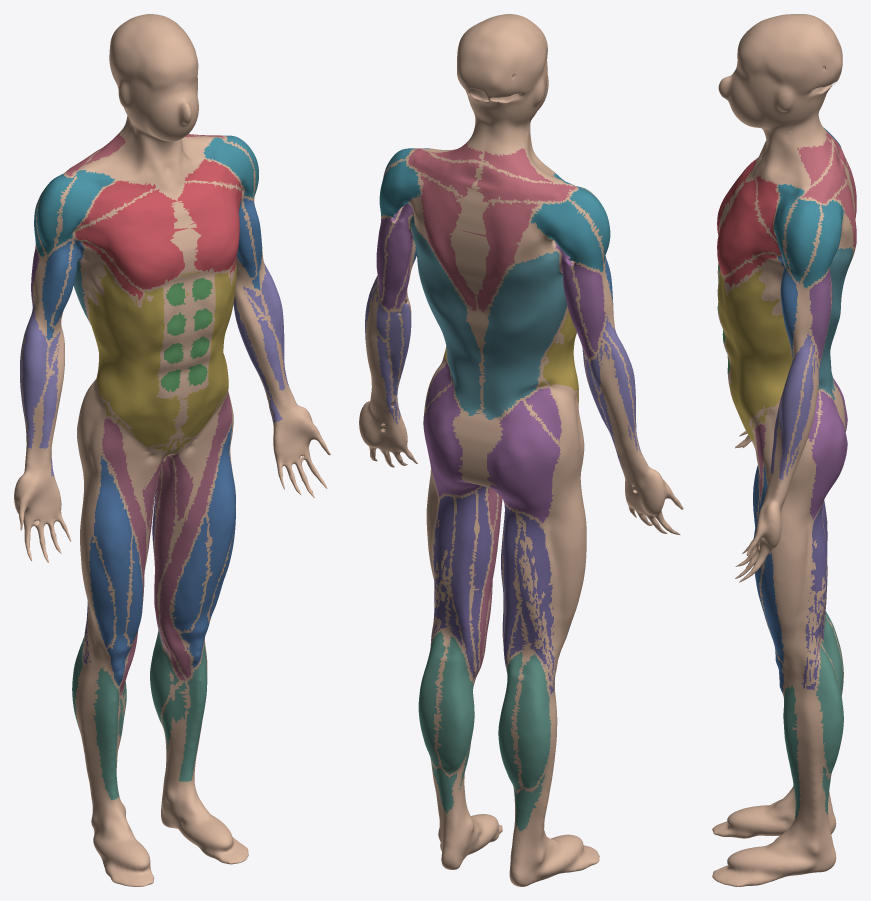
The model's file is MuscleAtlas_Surface.glb.
3 views of the same model, side by side, from view 1: azimuth 30°, elevation 25°; view 2: azimuth 150°, elevation 25°; view 3: azimuth 270°, elevation 25° (orthographic). The views are drawn at different scales.
Visible parts, largest first — view 1: Surface_Skin, Surface_External abdominal oblique muscle.r, Surface_Sternocostal head of pectoralis major muscle.r, Surface_Rectus femoris muscle.r, Surface_Sternocostal head of pectoralis major muscle.l, Surface_Sartorius muscle.l, Surface_Rectus femoris muscle.l, Surface_External abdominal oblique muscle.l, Surface_Tibialis anterior muscle.r, Surface_Sartorius muscle.r, Surface_Vastus medialis muscle.l, Surface_Brachioradialis muscle.r (+22 smaller); view 2: Surface_Skin, Surface_Latissimus dorsi muscle.r, Surface_Gluteus maximus muscle.r, Surface_Latissimus dorsi muscle.l, Surface_Medial head of gastrocnemius.l, Surface_Lateral head of gastrocnemius.r, Surface_Gluteus maximus muscle.l, Surface_Descending part of trapezius muscle.r, Surface_Descending part of trapezius muscle.l, Surface_Semitendinosus muscle.l, Surface_Scapular spinal part of deltoid muscle.r, Surface_Transverse part of trapezius muscle.r (+22 smaller); view 3: Surface_Skin, Surface_External abdominal oblique muscle.l, Surface_Sternocostal head of pectoralis major muscle.l, Surface_Gluteus maximus muscle.l, Surface_Lateral head of gastrocnemius.l, Surface_Acromial part of deltoid muscle.l, Surface_Brachioradialis muscle.l, Surface_Latissimus dorsi muscle.l, Surface_Scapular spinal part of deltoid muscle.l, Surface_Long head of biceps femoris.l.001, Surface_Lateral head of triceps brachii.l, Surface_Tibialis anterior muscle.l (+14 smaller).
Part boxes in pixels (<box>): Surface_Skin: <box>14,14,330,886</box>; Surface_External abdominal oblique muscle.r: <box>86,265,195,446</box>; Surface_Sternocostal head of pectoralis major muscle.r: <box>75,189,188,289</box>; Surface_Rectus femoris muscle.r: <box>94,455,131,685</box>; Surface_Sternocostal head of pectoralis major muscle.l: <box>177,182,241,272</box>; Surface_Sartorius muscle.l: <box>159,392,232,678</box>; Surface_Rectus femoris muscle.l: <box>180,425,235,667</box>; Surface_External abdominal oblique muscle.l: <box>180,262,236,440</box>; Surface_Tibialis anterior muscle.r: <box>92,667,119,799</box>; Surface_Sartorius muscle.r: <box>101,418,146,693</box>; Surface_Vastus medialis muscle.l: <box>171,517,208,649</box>; Surface_Brachioradialis muscle.r: <box>21,297,47,448</box>; Surface_Skin: <box>359,14,683,886</box>; Surface_Latissimus dorsi muscle.r: <box>482,251,567,419</box>; Surface_Gluteus maximus muscle.r: <box>487,401,560,522</box>; Surface_Latissimus dorsi muscle.l: <box>410,216,482,415</box>; Surface_Medial head of gastrocnemius.l: <box>437,636,474,774</box>; Surface_Lateral head of gastrocnemius.r: <box>514,654,551,788</box>; Surface_Gluteus maximus muscle.l: <box>423,382,481,497</box>; Surface_Descending part of trapezius muscle.r: <box>458,201,539,312</box>; Surface_Descending part of trapezius muscle.l: <box>420,174,477,311</box>; Surface_Semitendinosus muscle.l: <box>450,492,476,679</box>; Surface_Scapular spinal part of deltoid muscle.r: <box>530,199,603,272</box>; Surface_Transverse part of trapezius muscle.r: <box>475,165,576,202</box>; Surface_Skin: <box>712,14,854,886</box>; Surface_External abdominal oblique muscle.l: <box>718,269,792,440</box>; Surface_Sternocostal head of pectoralis major muscle.l: <box>717,178,781,275</box>; Surface_Gluteus maximus muscle.l: <box>810,391,847,519</box>; Surface_Lateral head of gastrocnemius.l: <box>815,645,843,775</box>; Surface_Acromial part of deltoid muscle.l: <box>785,198,821,283</box>; Surface_Brachioradialis muscle.l: <box>778,332,812,479</box>; Surface_Latissimus dorsi muscle.l: <box>818,246,853,400</box>; Surface_Scapular spinal part of deltoid muscle.l: <box>802,199,844,288</box>; Surface_Long head of biceps femoris.l.001: <box>801,504,827,688</box>; Surface_Lateral head of triceps brachii.l: <box>809,269,831,361</box>; Surface_Tibialis anterior muscle.l: <box>783,685,800,818</box>.
Bounding box in the file's own units: 0.667 × 1.7 × 0.2659.
